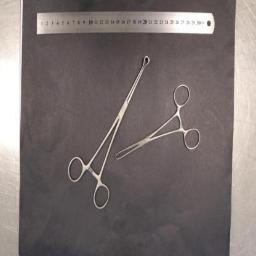Allis Tissue Forceps: (115, 82, 201, 160)
